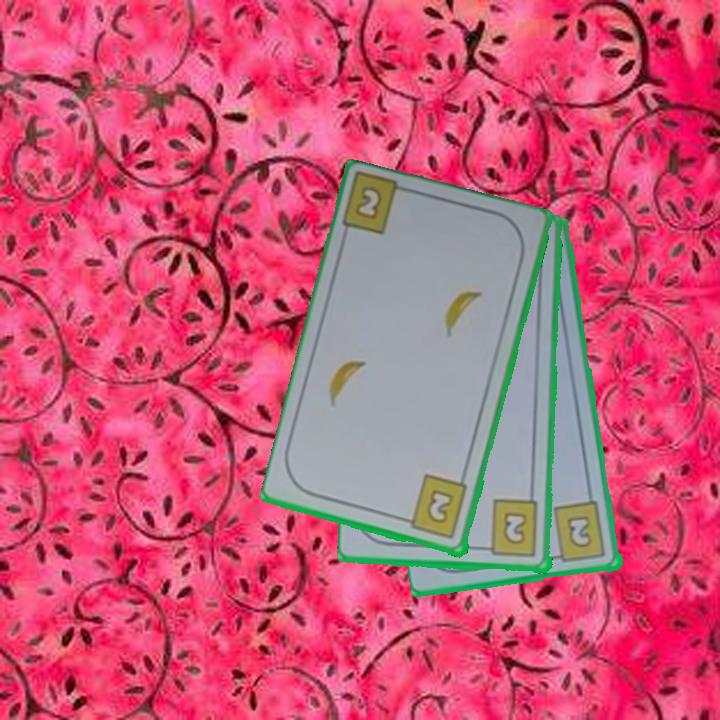2b: (399, 472, 471, 542), (548, 499, 609, 566), (478, 498, 542, 560), (351, 182, 386, 223)
